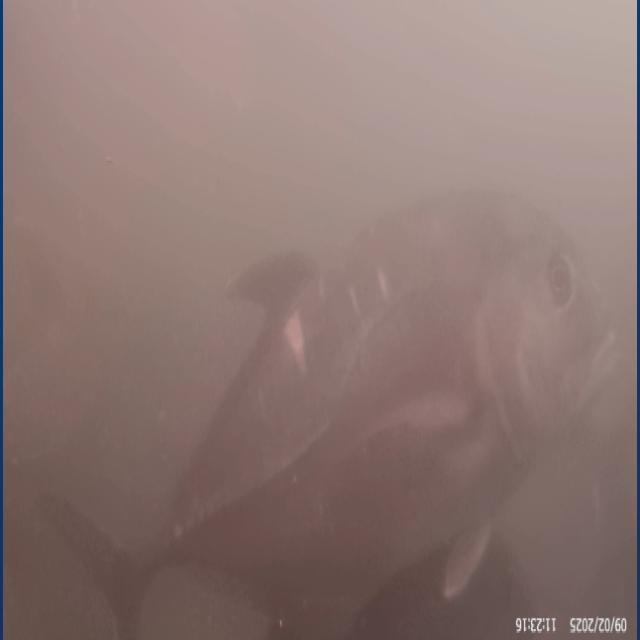ikan: (45, 162, 612, 600)
